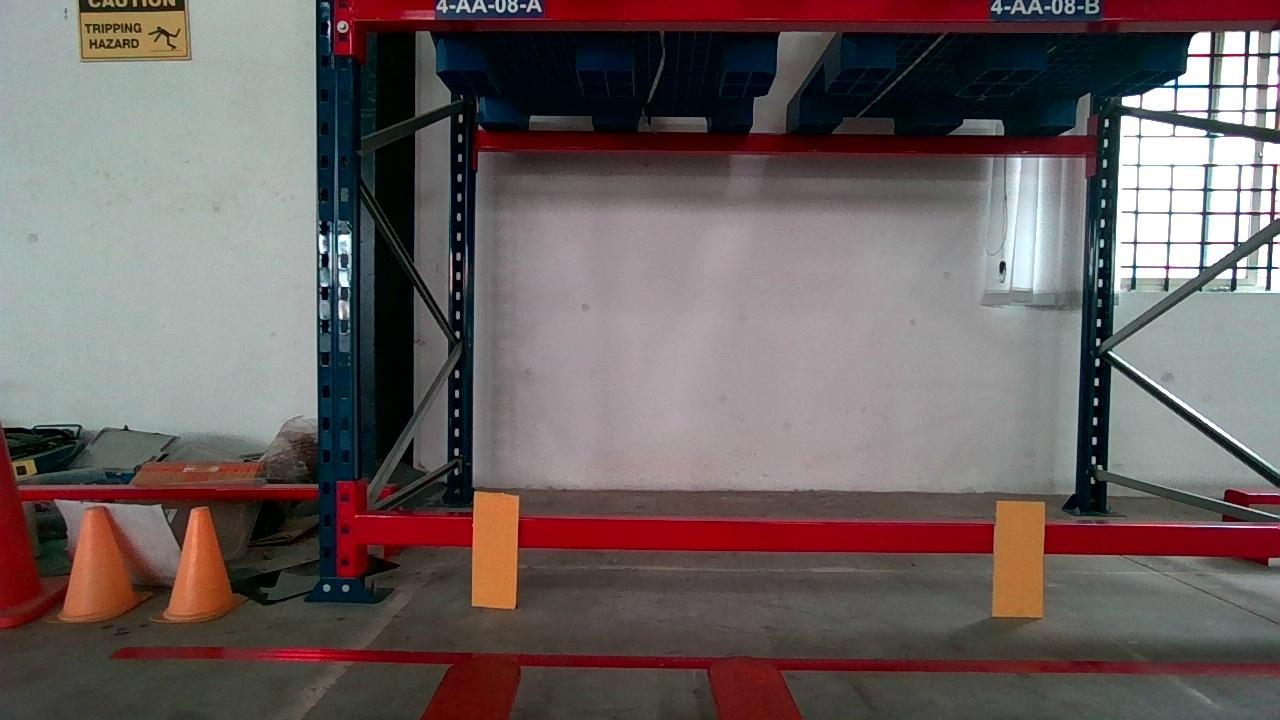h_rack: (352, 514, 1280, 562), (347, 0, 1280, 27)
orange_strip: (470, 488, 517, 610), (995, 503, 1043, 618)
red_line: (114, 641, 1280, 678)
